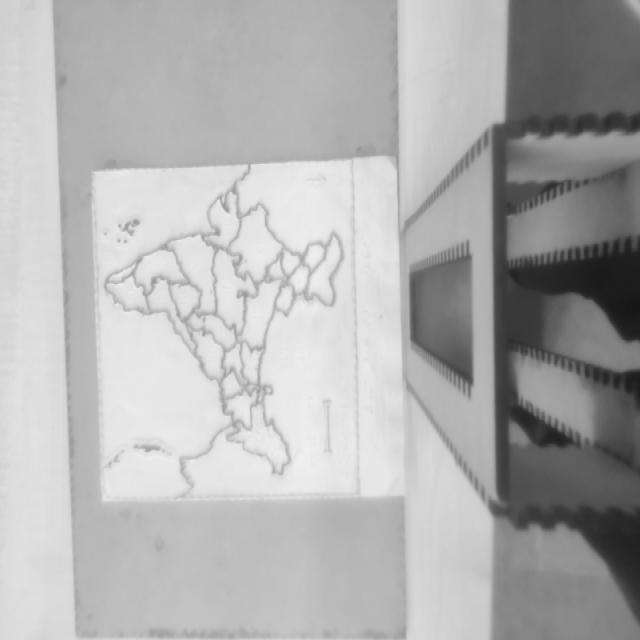map: (93, 161, 362, 500)
